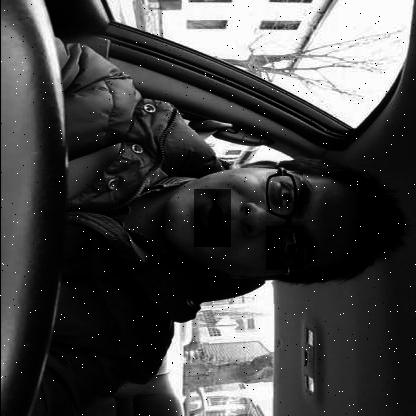seatbelt: (0, 107, 404, 291)
